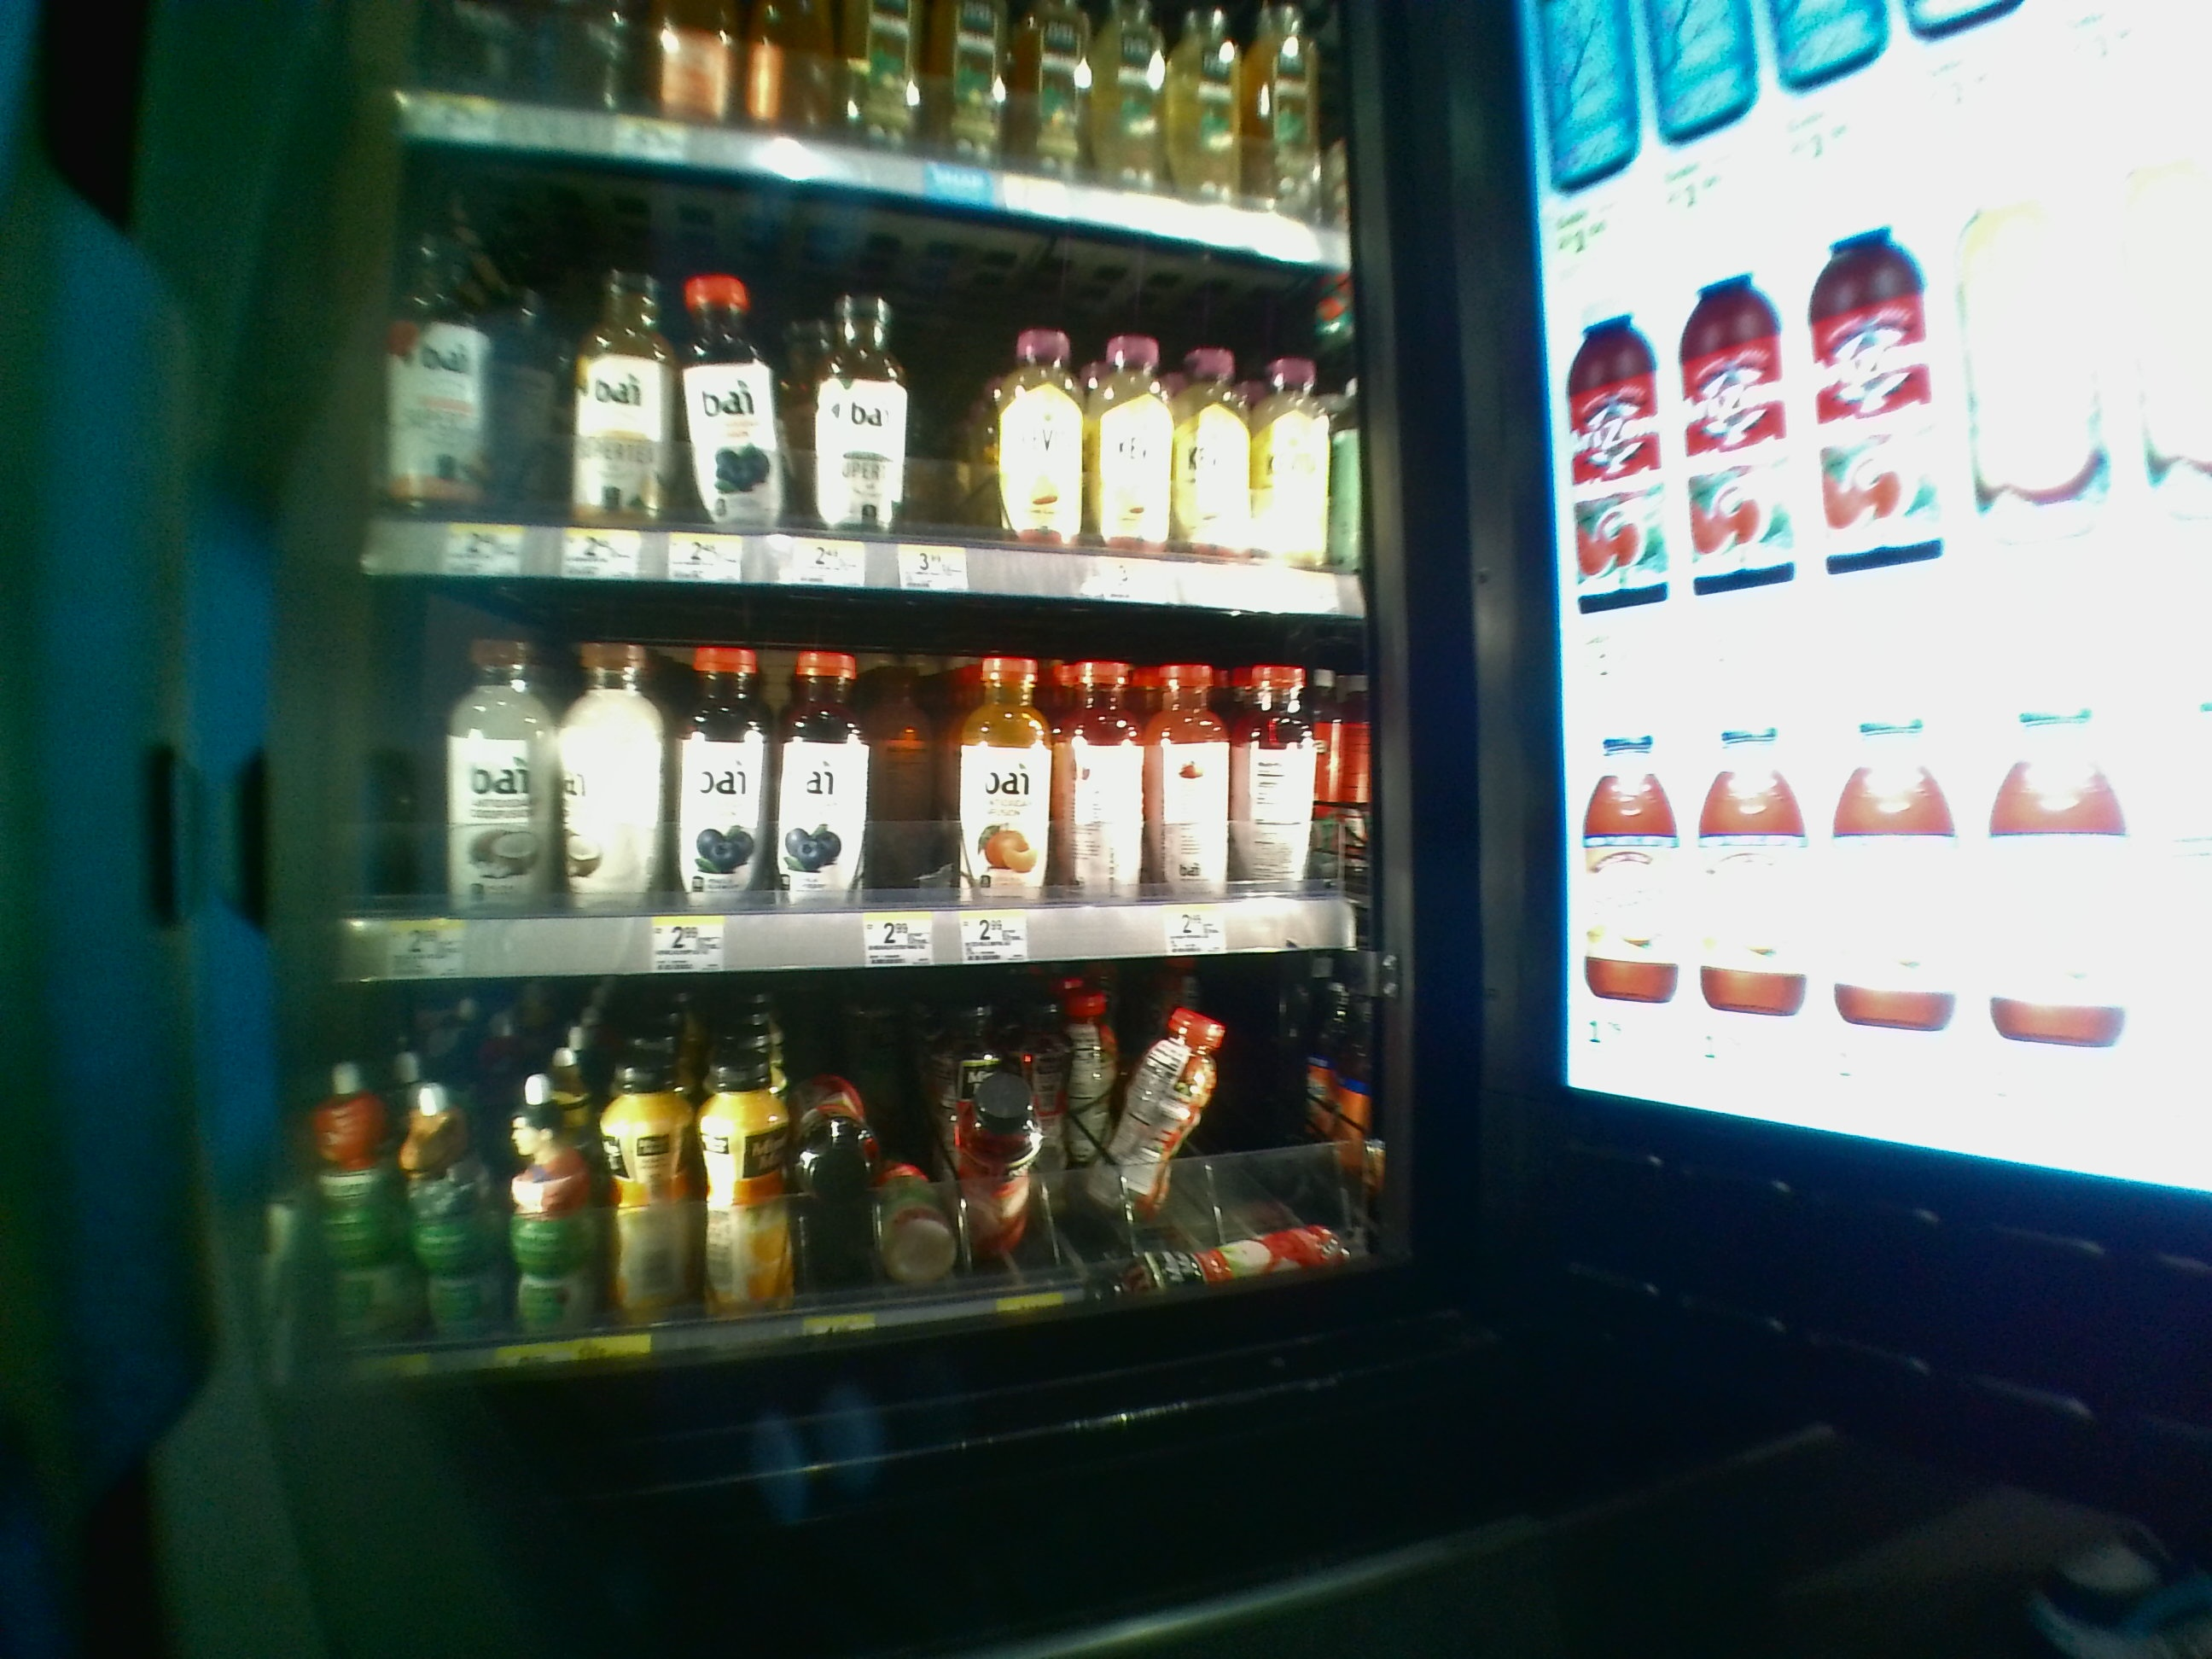shelf: (364, 145, 1371, 586), (315, 993, 1385, 1385), (336, 596, 1360, 979)
